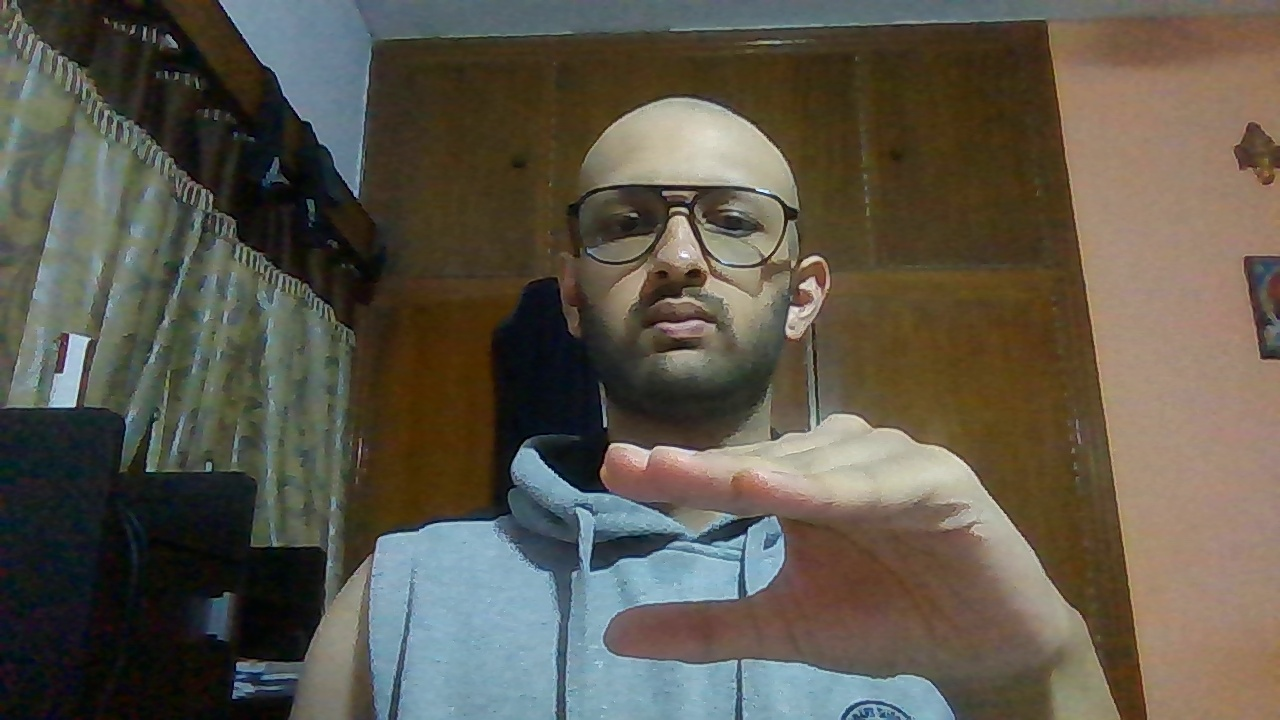No: (594, 408, 1101, 669)
